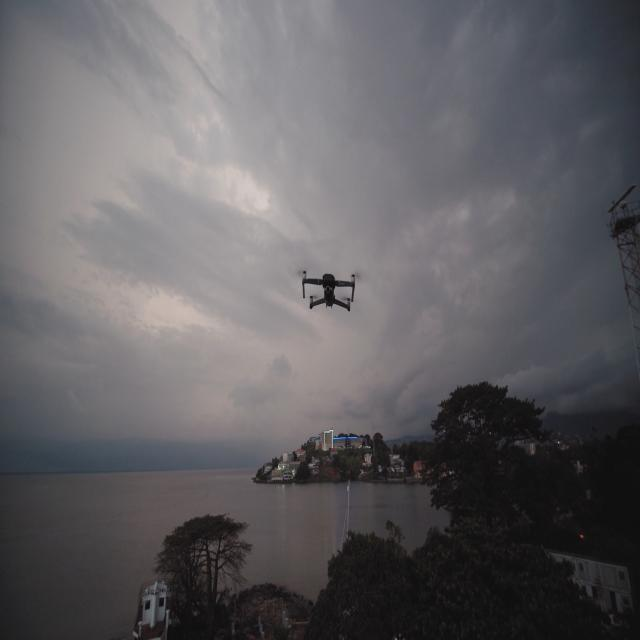drone: (301, 269, 356, 313)
